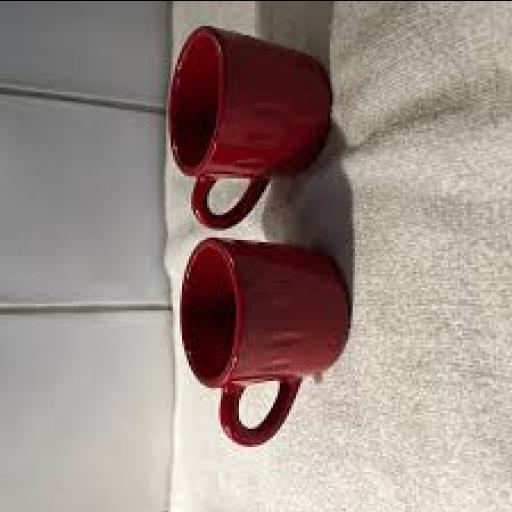red mug: (182, 237, 348, 444), (168, 27, 328, 228)
